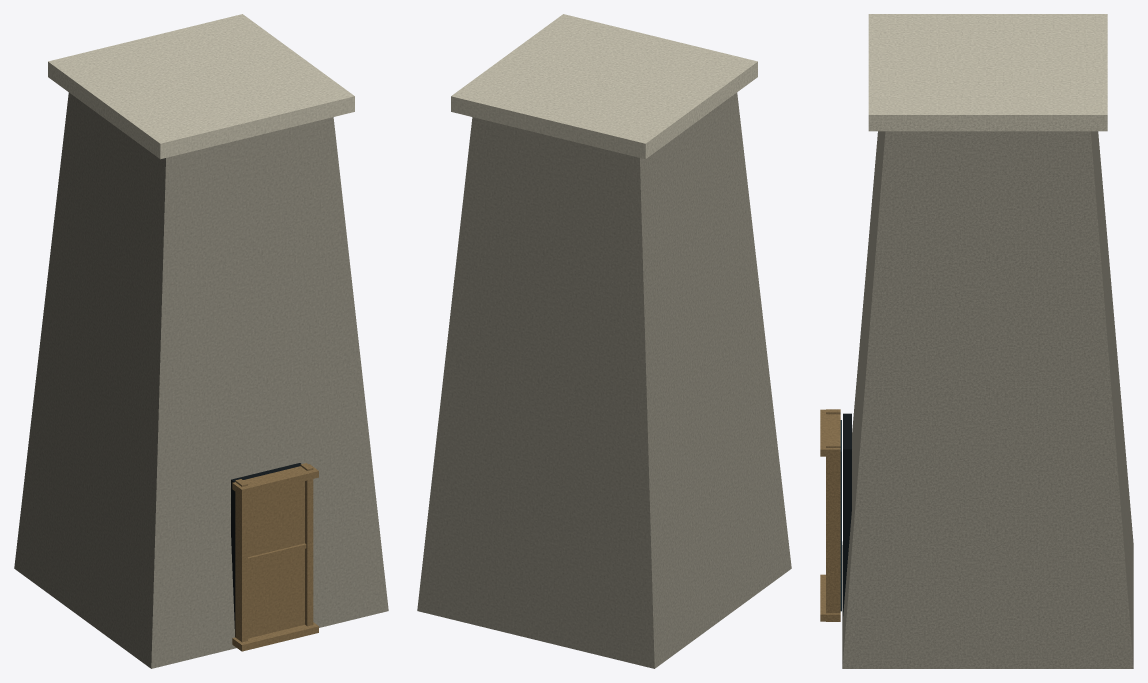
File: TOWERB2_lod2.glb
The picture shows the model from 3 angles, left to right: view 1: azimuth 30°, elevation 25°; view 2: azimuth 150°, elevation 25°; view 3: azimuth 270°, elevation 25°; orthographic projection. The views are drawn at different scales.
Visible parts, largest first — view 1: TOWERB2_LOD2; view 2: TOWERB2_LOD2; view 3: TOWERB2_LOD2.
Boxes of the visible parts, bbox=[...] form: TOWERB2_LOD2: bbox=[14, 14, 388, 668]; TOWERB2_LOD2: bbox=[417, 14, 791, 668]; TOWERB2_LOD2: bbox=[820, 14, 1133, 668].
Size of the model in its own units: 4 by 8.23 by 4.31.
Materials: 5 (3 with a texture image).
